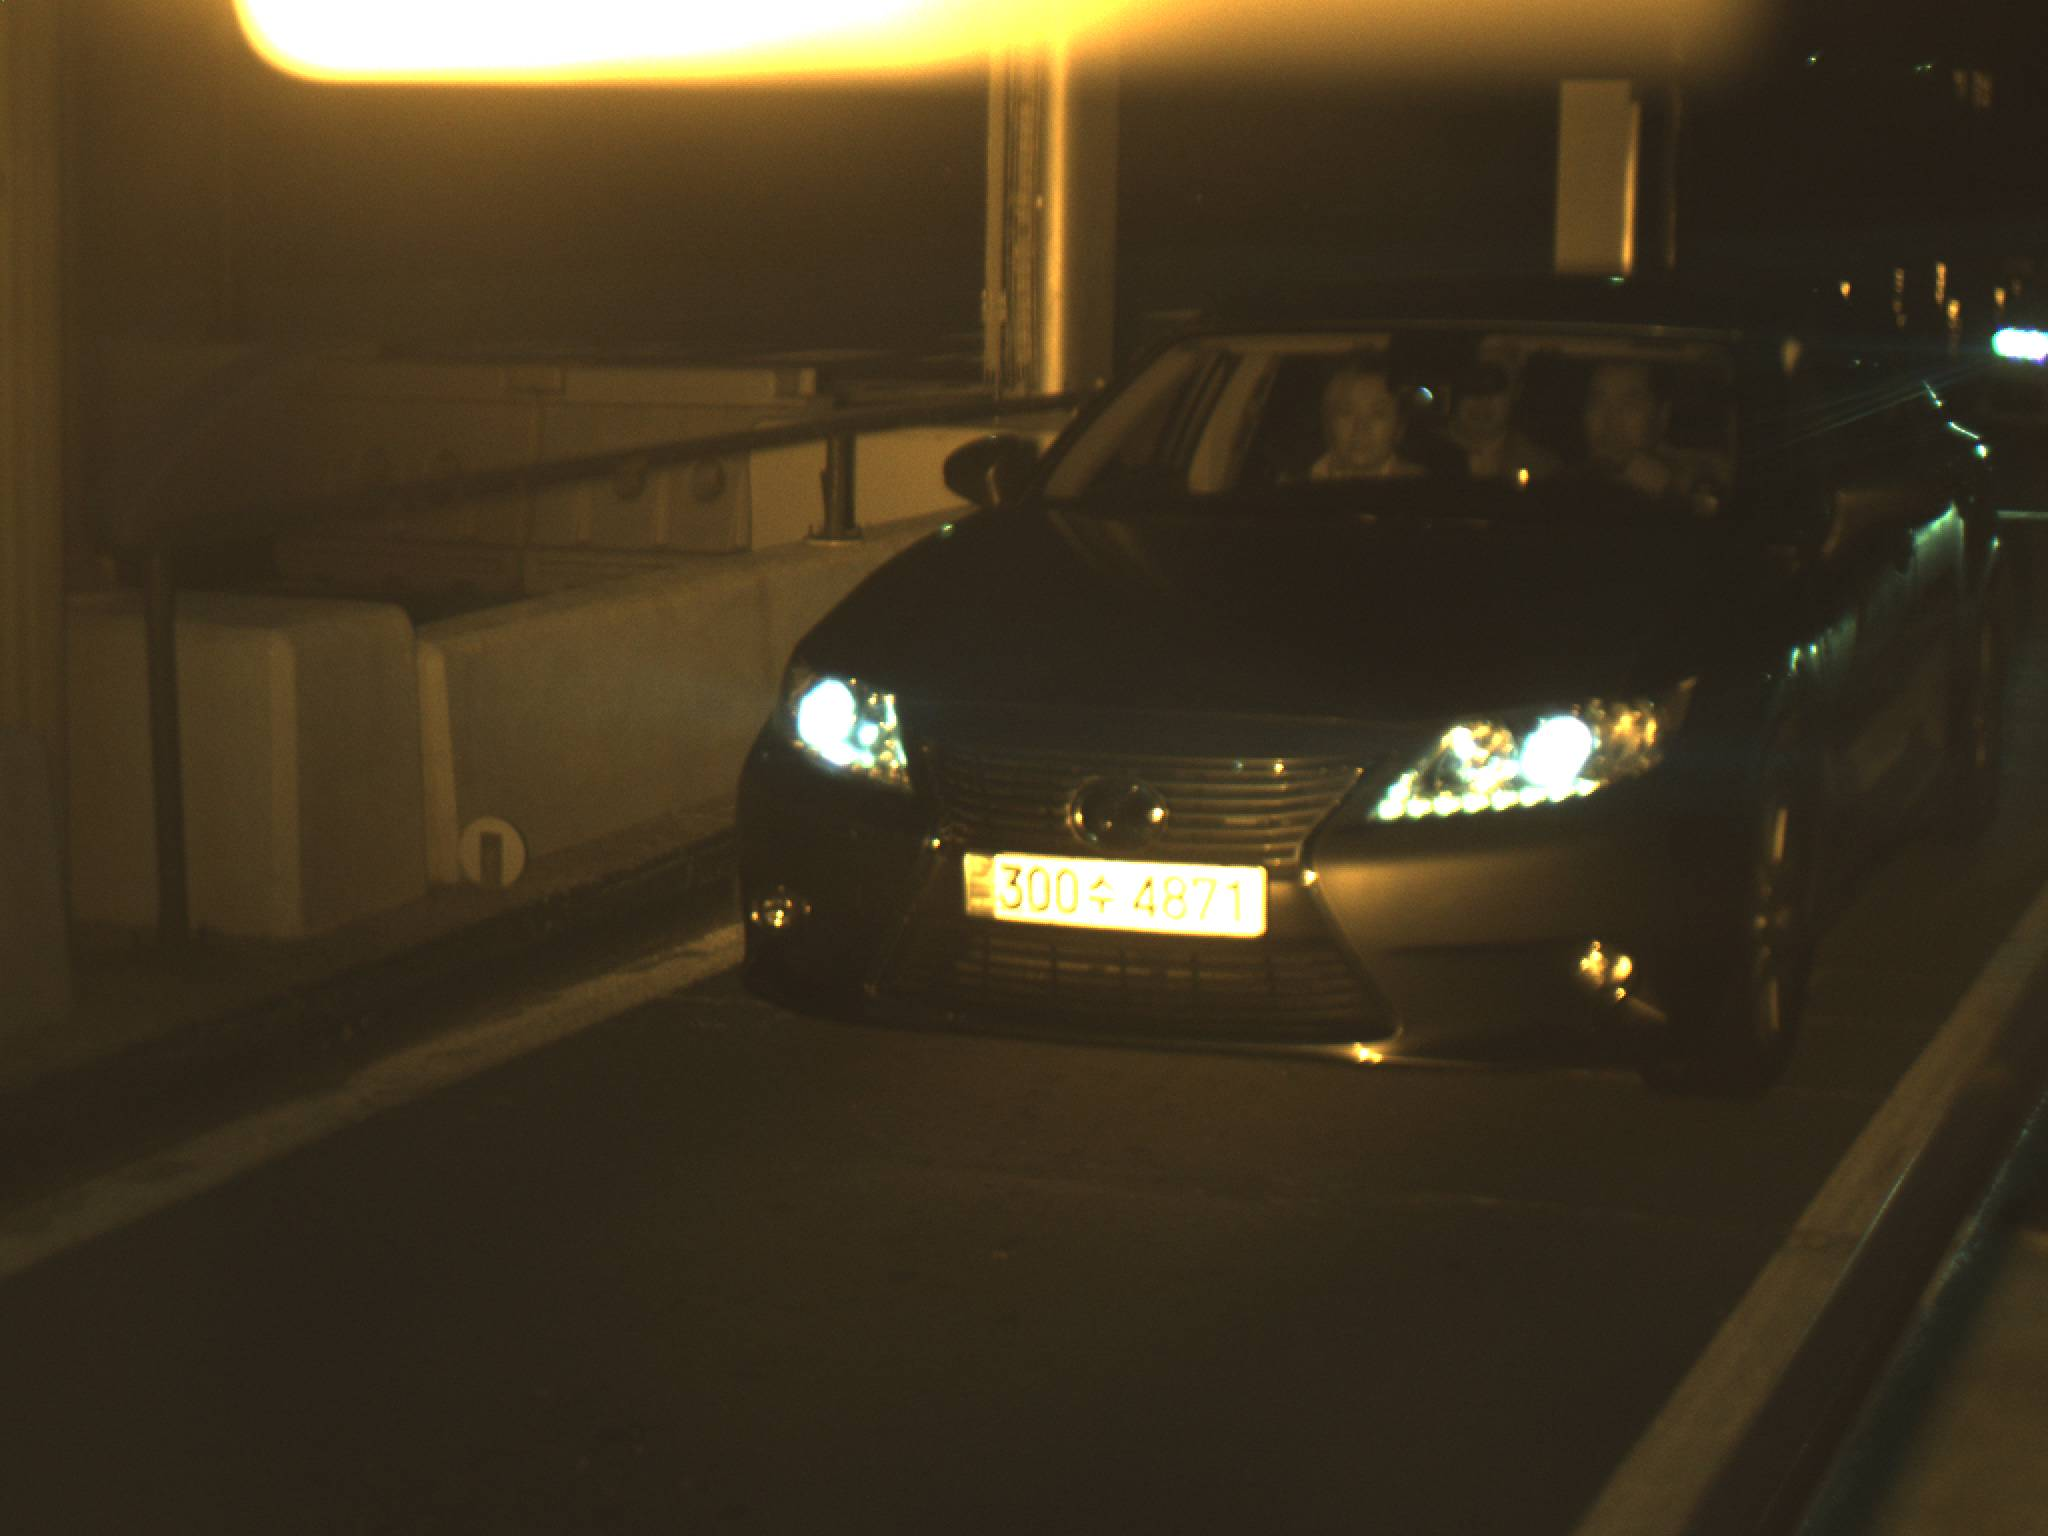car: (724, 267, 2046, 1099)
plate: (951, 840, 1273, 945)
